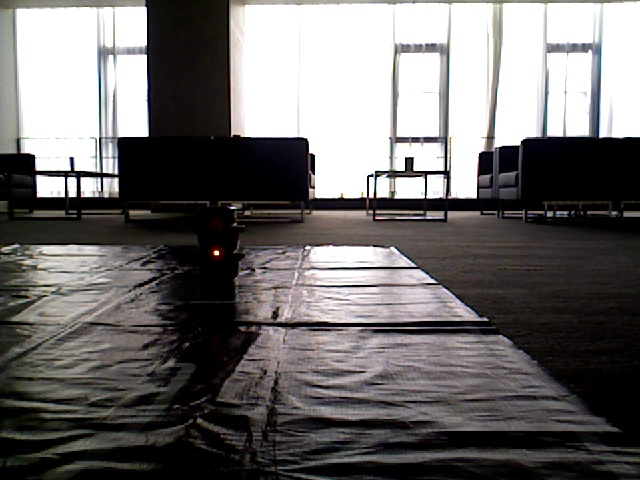yellow: (201, 204, 232, 293)
